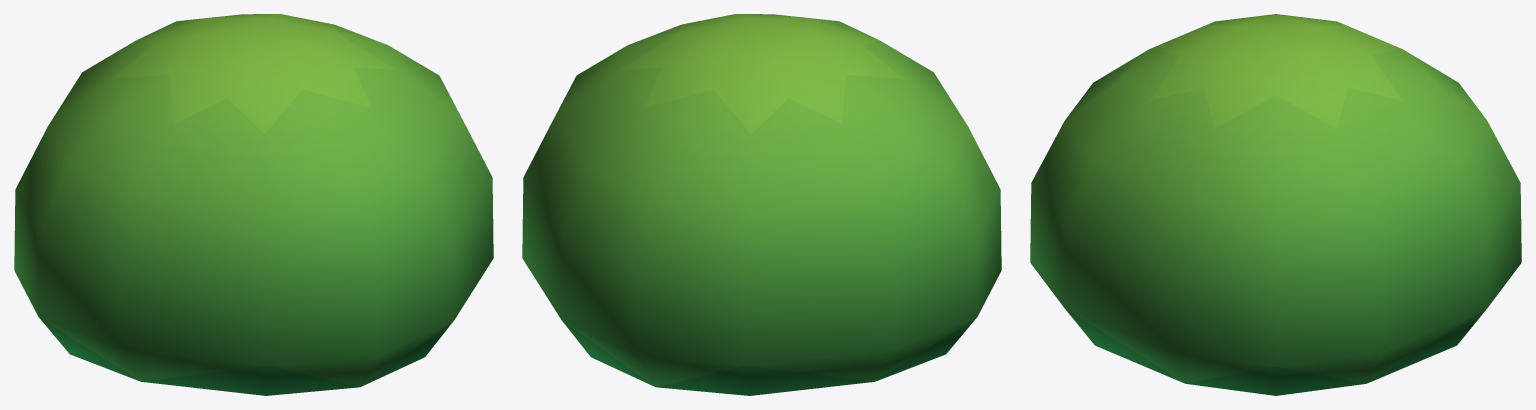
The model's file is Bush_1_B_Color1.glb.
3 renders of one model, left to right at view 1: azimuth 30°, elevation 25°; view 2: azimuth 150°, elevation 25°; view 3: azimuth 270°, elevation 25°, orthographic.
Parts seen in each view (by area): view 1: Bush_1_B_Color1; view 2: Bush_1_B_Color1; view 3: Bush_1_B_Color1.
Boxes of the visible parts, x1,y1,x2,y2 form: Bush_1_B_Color1: (14,14,493,395); Bush_1_B_Color1: (522,14,1001,395); Bush_1_B_Color1: (1030,14,1521,395).
Bounding box in the file's own units: 0.7224 × 0.4841 × 0.7224.
1 material, 1 textured.
